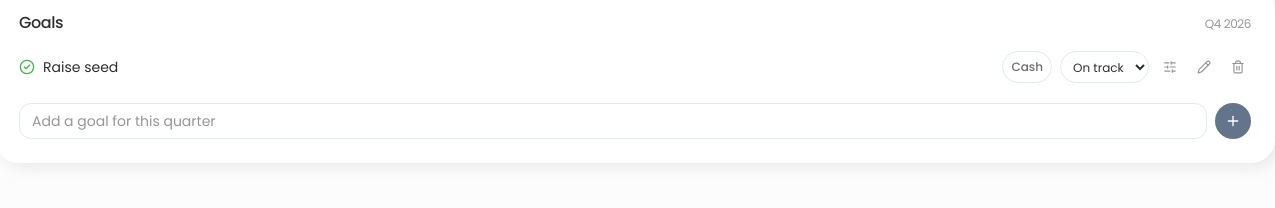
Test case: GoalsPanel › adding a goal clears the field at once and restores it if the add fails
This screenshot has width=1275, height=208.
Step 1. Type "Sign two pilots" into the field named "New goal" → (613, 121), box x1=19 y1=103 x2=1207 y2=139
Then press Enter
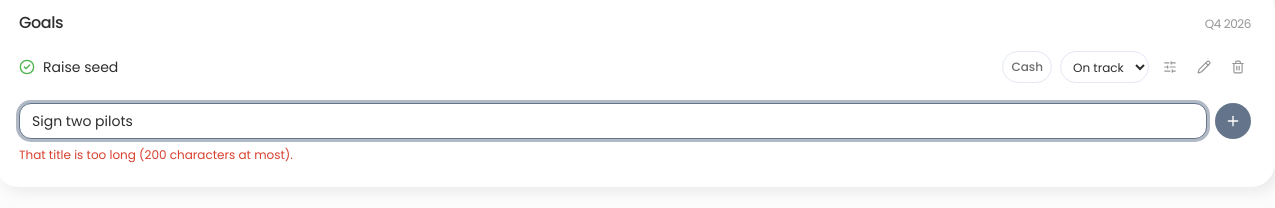
Check: the message shows "too long", box x1=19 y1=146 x2=293 y2=163
